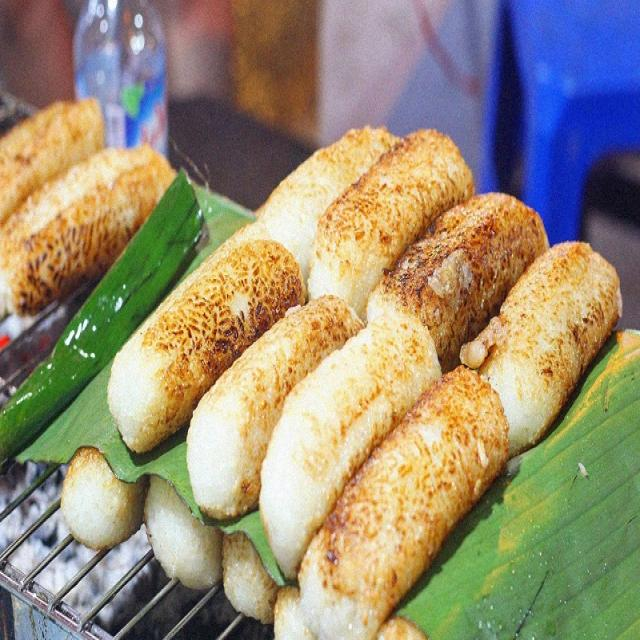chuoi nep nuong: (96, 256, 619, 554), (5, 119, 164, 295)
